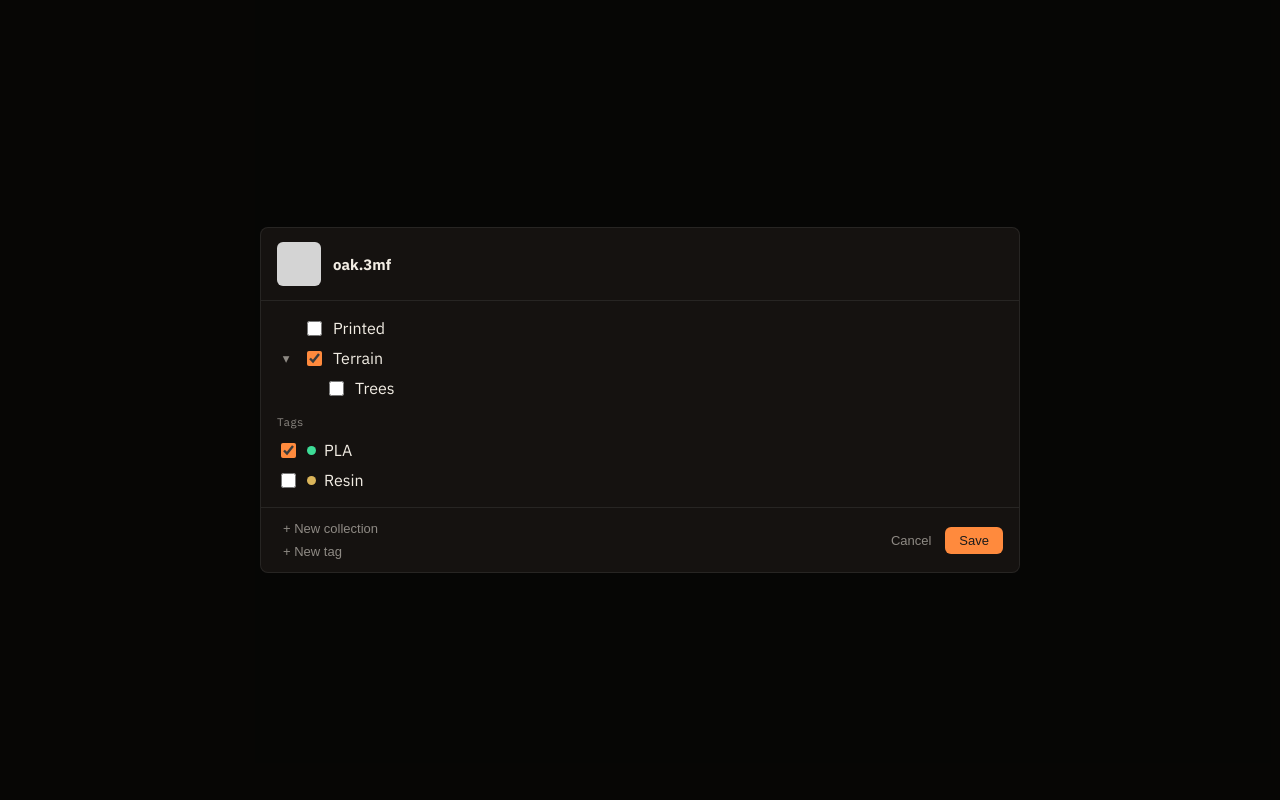
Test: AssignFoldersModal › creates a folder, auto-checks it, and notifies
Click the button "+ New collection" at x=330, y=528, box left=277, top=520, right=384, bottom=537
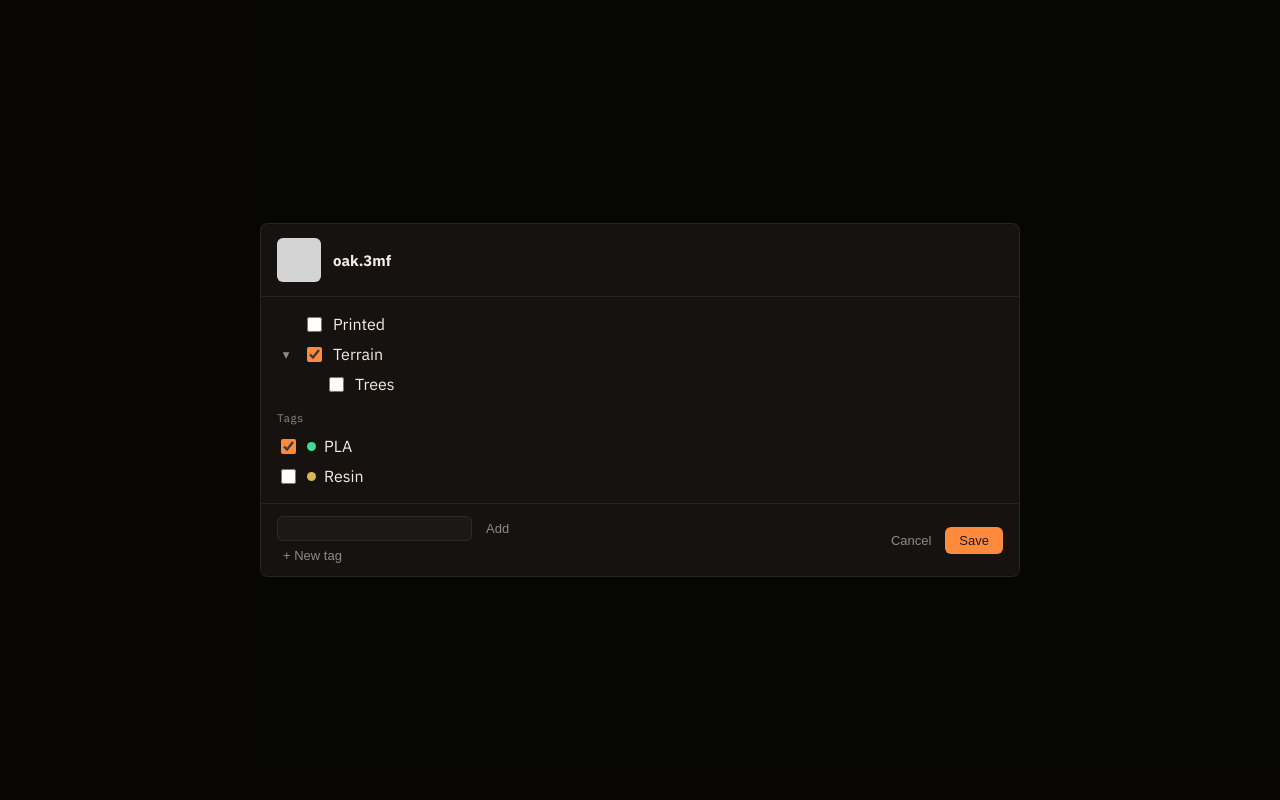
Type "Dragons" into the field named "New collection name" at x=374, y=528, box left=277, top=516, right=472, bottom=541
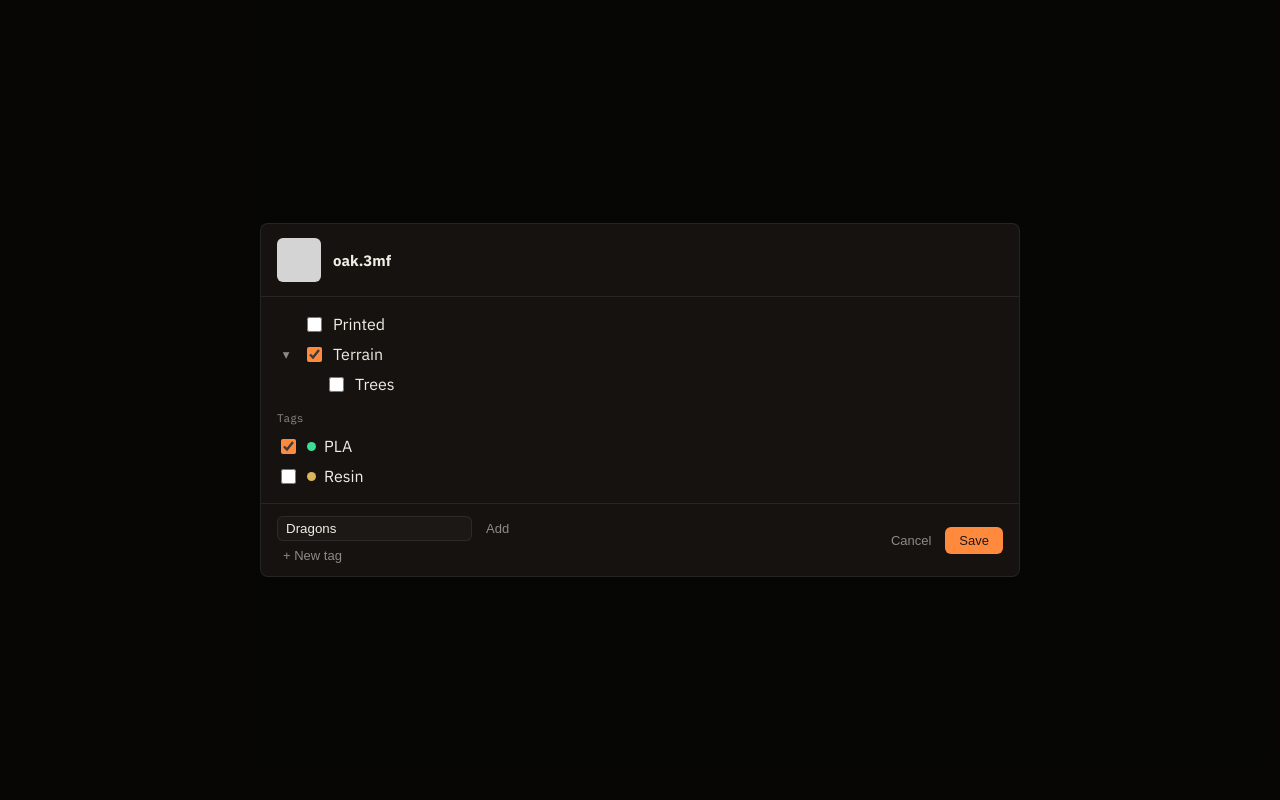
Click the button "Add" at x=498, y=528, box left=480, top=520, right=515, bottom=537
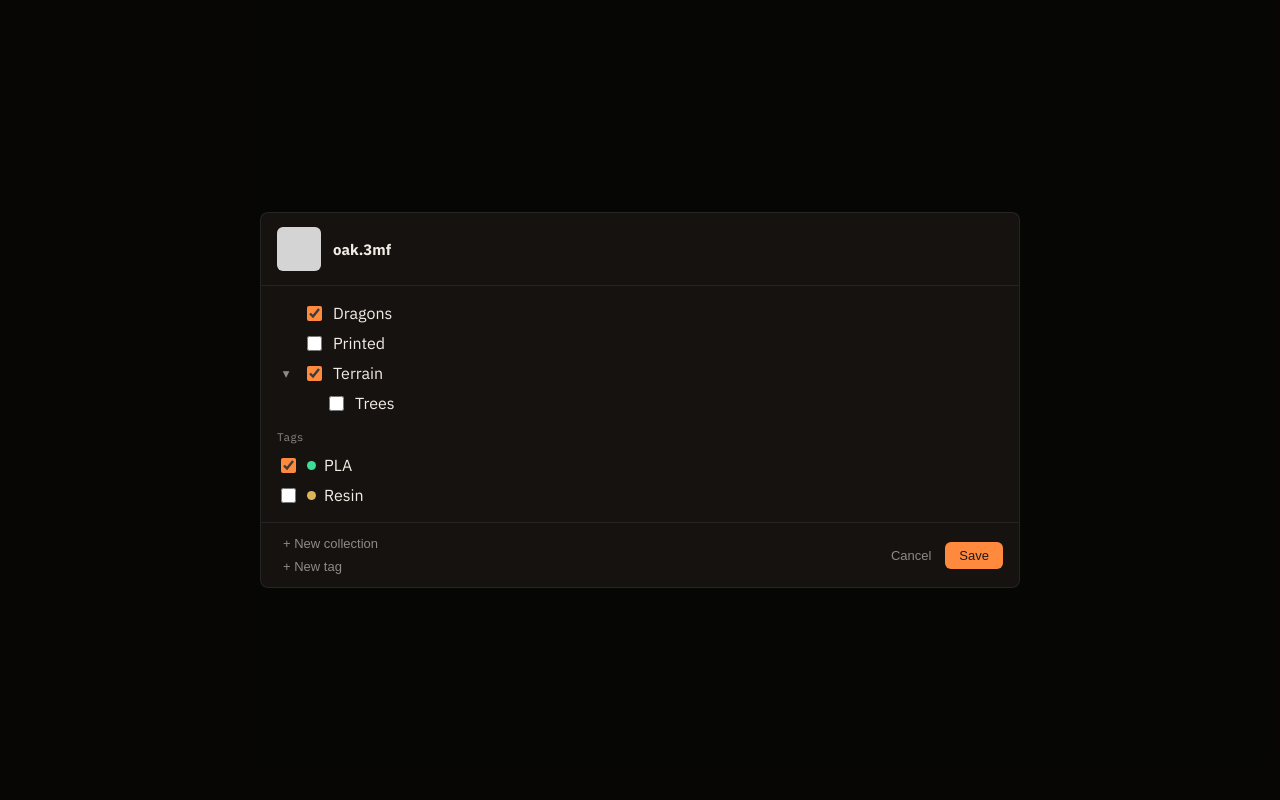
Now the checkbox labelled "Dragons" is checked, box left=307, top=306, right=322, bottom=320
